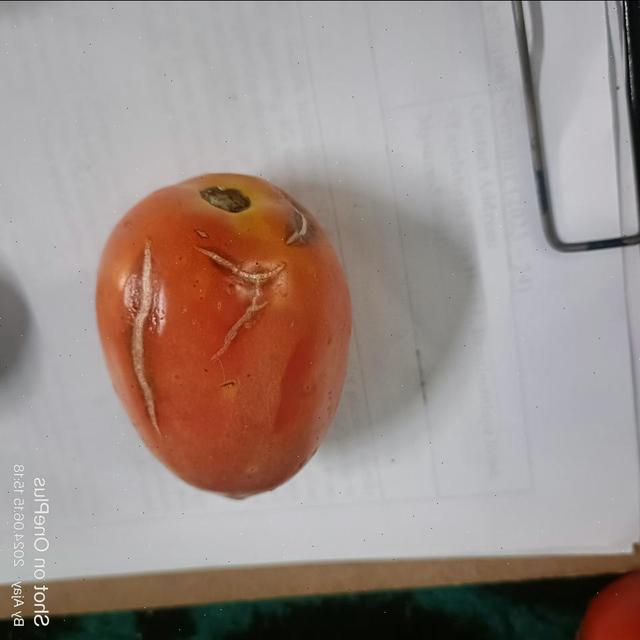Cracking Fruit: (105, 161, 195, 222)
